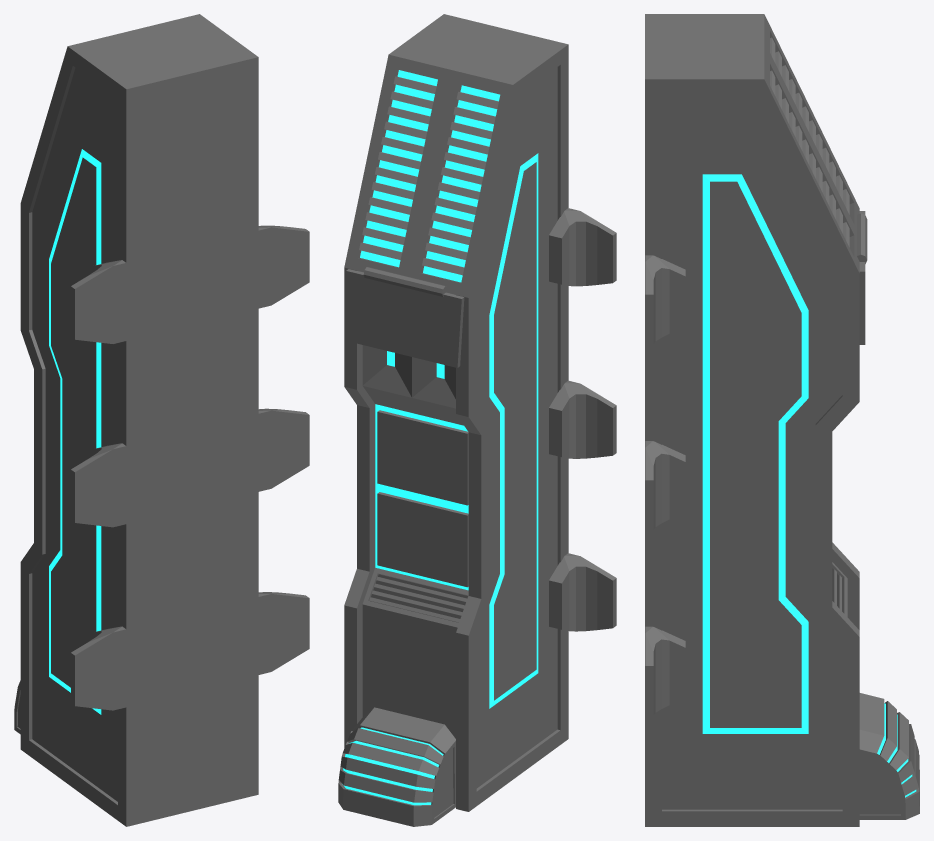
Rendered from Wall_Mech_5_5_15_mesh.glb.
3 views of the same model, side by side, from view 1: azimuth 30°, elevation 25°; view 2: azimuth 150°, elevation 25°; view 3: azimuth 270°, elevation 25° (orthographic). The views are drawn at different scales.
Parts seen in each view (by area): view 1: Wall_Mech_5_5_15_mesh; view 2: Wall_Mech_5_5_15_mesh; view 3: Wall_Mech_5_5_15_mesh.
Boxes of the visible parts, x1,y1,x2,y2 form: Wall_Mech_5_5_15_mesh: (14, 14, 309, 826); Wall_Mech_5_5_15_mesh: (338, 14, 616, 826); Wall_Mech_5_5_15_mesh: (645, 14, 919, 826).
Size of what is drawn, in the model's own units: 5 by 15.02 by 5.
